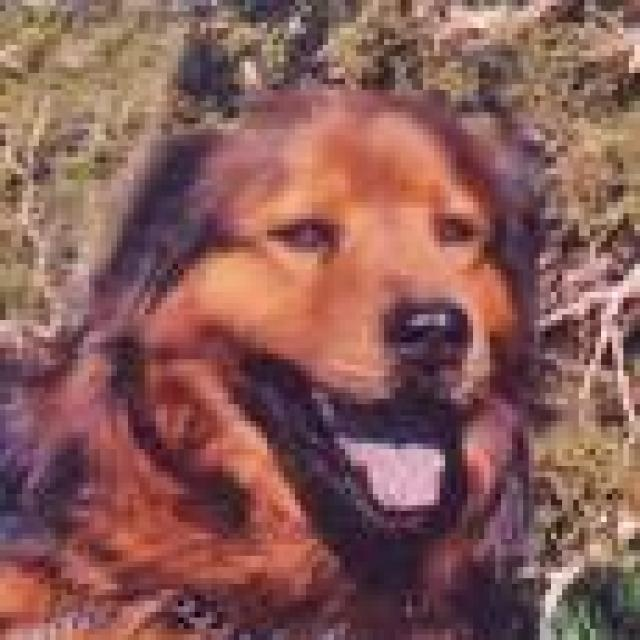dogs: (0, 100, 546, 639)
